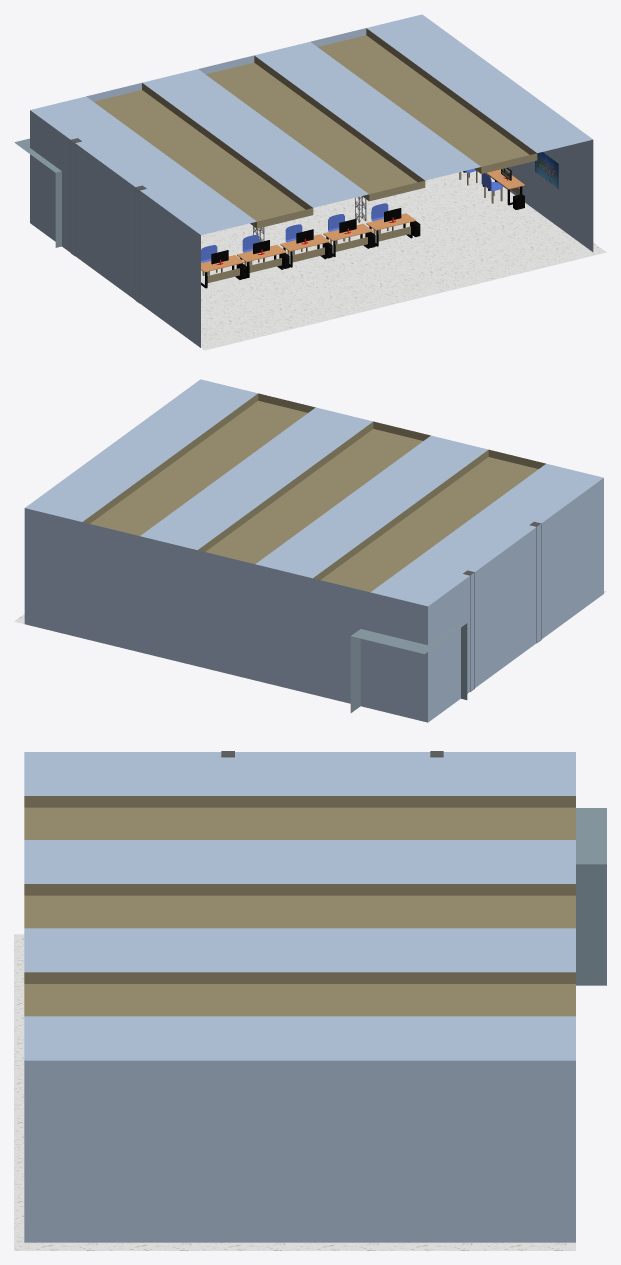
The model's file is GameLabMap.fbx.
3 views of the same model, one above another, from view 1: azimuth 30°, elevation 25°; view 2: azimuth 150°, elevation 25°; view 3: azimuth 270°, elevation 25° (orthographic). The views are drawn at different scales.
Parts seen in each view (by area): view 1: Plane, Plane.042, Plane.047, Plane.039, Plane.044, Plane.035, Plane.037, Plane.046, Plane.031, Plane.036, Plane.038, Plane.043 (+25 smaller); view 2: Plane, Cube.002; view 3: Plane, Cube.002, Plane.048, Plane.016, Plane.040, Plane.008, Plane.024, Plane.032.
Part boxes in pixels (x1,y1,x2,y2): Plane: (30, 14, 593, 347); Plane.042: (226, 305, 304, 338); Plane.047: (477, 243, 556, 276); Plane.039: (448, 222, 527, 255); Plane.044: (326, 280, 405, 313); Plane.035: (247, 271, 325, 304); Plane.037: (348, 247, 426, 279); Plane.046: (427, 256, 505, 288); Plane.031: (419, 201, 498, 234); Plane.036: (298, 259, 376, 292); Plane.038: (398, 234, 476, 267); Plane.043: (276, 292, 354, 325); Plane: (24, 379, 603, 722); Cube.002: (350, 621, 467, 712); Plane: (24, 752, 575, 1242); Cube.002: (576, 808, 606, 985); Plane.048: (14, 1211, 107, 1250); Plane.016: (388, 1242, 482, 1250); Plane.040: (107, 1242, 201, 1250); Plane.008: (482, 1242, 575, 1250); Plane.024: (295, 1242, 388, 1250); Plane.032: (201, 1242, 294, 1250).
Size of the model in its own units: 4879 by 1294 by 3800.
